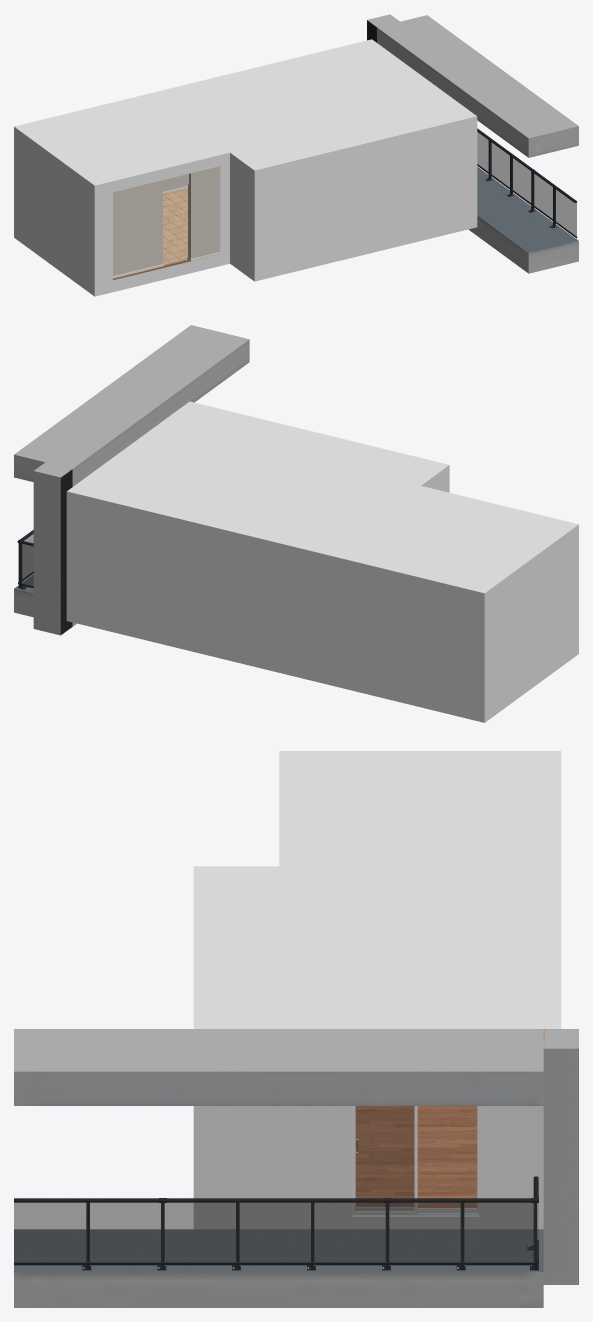
The model's file is apartment_living_room_with_balcony.glb.
3 renders of one model, top to bottom at view 1: azimuth 30°, elevation 25°; view 2: azimuth 150°, elevation 25°; view 3: azimuth 270°, elevation 25°, orthographic. The views are drawn at different scales.
Parts seen in each view (by area): view 1: livingroomshell, BalconyGlass, LivingRoom8; view 2: livingroomshell, BalconyGlass; view 3: livingroomshell, BalconyGlass, LivingRoom8, polySurface4979.
Boxes of the visible parts, x1=… form: livingroomshell: x1=14, y1=39, x2=477, y2=296; BalconyGlass: x1=367, y1=14, x2=578, y2=273; LivingRoom8: x1=113, y1=166, x2=220, y2=280; livingroomshell: x1=66, y1=401, x2=578, y2=722; BalconyGlass: x1=14, y1=325, x2=249, y2=635; livingroomshell: x1=193, y1=751, x2=561, y2=1229; BalconyGlass: x1=14, y1=1029, x2=578, y2=1307; LivingRoom8: x1=356, y1=1106, x2=476, y2=1207; polySurface4979: x1=352, y1=1106, x2=417, y2=1214.
Size of the model in its own units: 1165 by 369 by 800.
Materials: 16 (16 with a texture image).
